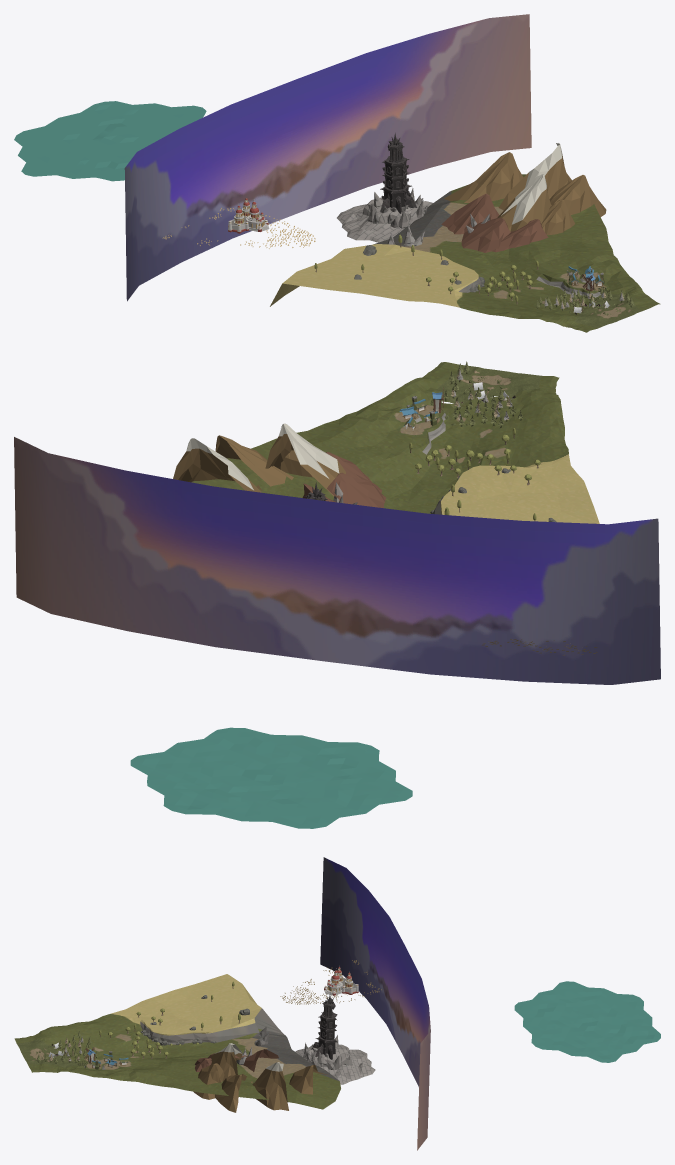
Rendered from titleDio.fbx.
The picture shows the model from 3 angles, top to bottom: view 1: azimuth 30°, elevation 25°; view 2: azimuth 150°, elevation 25°; view 3: azimuth 270°, elevation 25°; orthographic projection. The views are drawn at different scales.
Parts seen in each view (by area): view 1: titleDioBG, titleDioGroundFar, titleDioMountainsBG, titleDioWater, titleDioHarazuel, titleDioGroundNear, titleDioPlainsPropsBG, titleDioParid, titleDioPropsMid, titleDioPlainsGrass; view 2: titleDioBG, titleDioGroundFar, titleDioWater, titleDioMountainsBG, titleDioGroundNear, titleDioPlainsPropsBG, titleDioPropsMid; view 3: titleDioGroundFar, titleDioBG, titleDioWater, titleDioMountainsBG, titleDioHarazuel, titleDioPlainsPropsBG, titleDioGroundNear, titleDioParid, titleDioPropsMid, titleDioPlainsGrass.
Part boxes in pixels (<box>): titleDioBG: <box>124,14,531,301</box>; titleDioGroundFar: <box>270,174,660,332</box>; titleDioMountainsBG: <box>441,143,606,252</box>; titleDioWater: <box>14,101,206,181</box>; titleDioHarazuel: <box>337,133,489,246</box>; titleDioGroundNear: <box>574,293,642,328</box>; titleDioPlainsPropsBG: <box>314,234,538,304</box>; titleDioParid: <box>228,198,269,233</box>; titleDioPropsMid: <box>536,287,624,310</box>; titleDioPlainsGrass: <box>162,208,315,248</box>; titleDioBG: <box>14,437,660,684</box>; titleDioGroundFar: <box>191,362,599,523</box>; titleDioWater: <box>130,727,412,828</box>; titleDioMountainsBG: <box>173,423,386,507</box>; titleDioGroundNear: <box>435,366,542,405</box>; titleDioPlainsPropsBG: <box>409,428,556,522</box>; titleDioPropsMid: <box>430,371,522,427</box>; titleDioGroundFar: <box>14,974,340,1109</box>; titleDioBG: <box>320,857,430,1150</box>; titleDioWater: <box>514,981,660,1062</box>; titleDioMountainsBG: <box>193,1043,328,1112</box>; titleDioHarazuel: <box>236,994,375,1084</box>; titleDioPlainsPropsBG: <box>99,981,249,1058</box>; titleDioGroundNear: <box>16,1038,77,1067</box>; titleDioParid: <box>324,965,358,995</box>; titleDioPropsMid: <box>54,1031,97,1066</box>; titleDioPlainsGrass: <box>280,960,381,1004</box>.
Bounding box in the file's own units: 195 × 54.51 × 290.
Materials: 15 (14 with a texture image).
